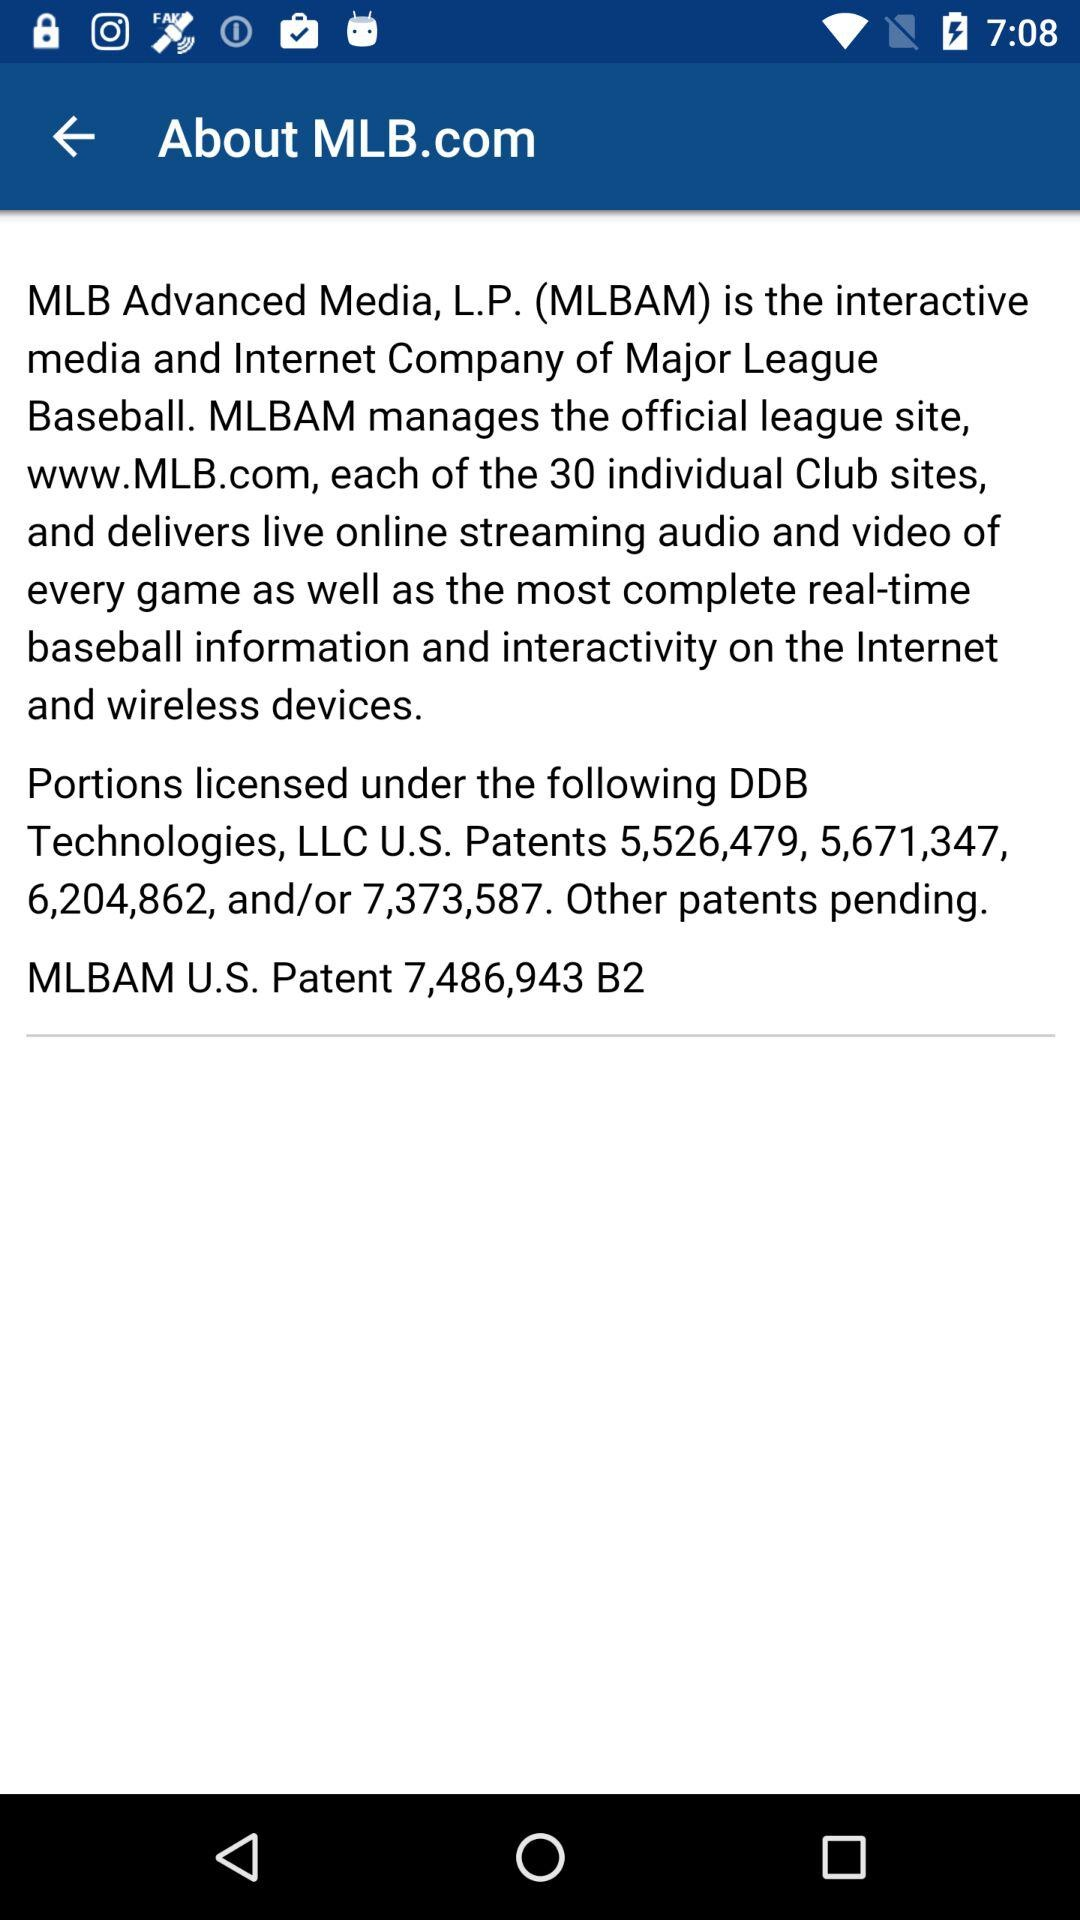Bar: (5, 63, 1075, 210), (477, 939, 603, 1065)
TextView: (158, 102, 537, 171)
